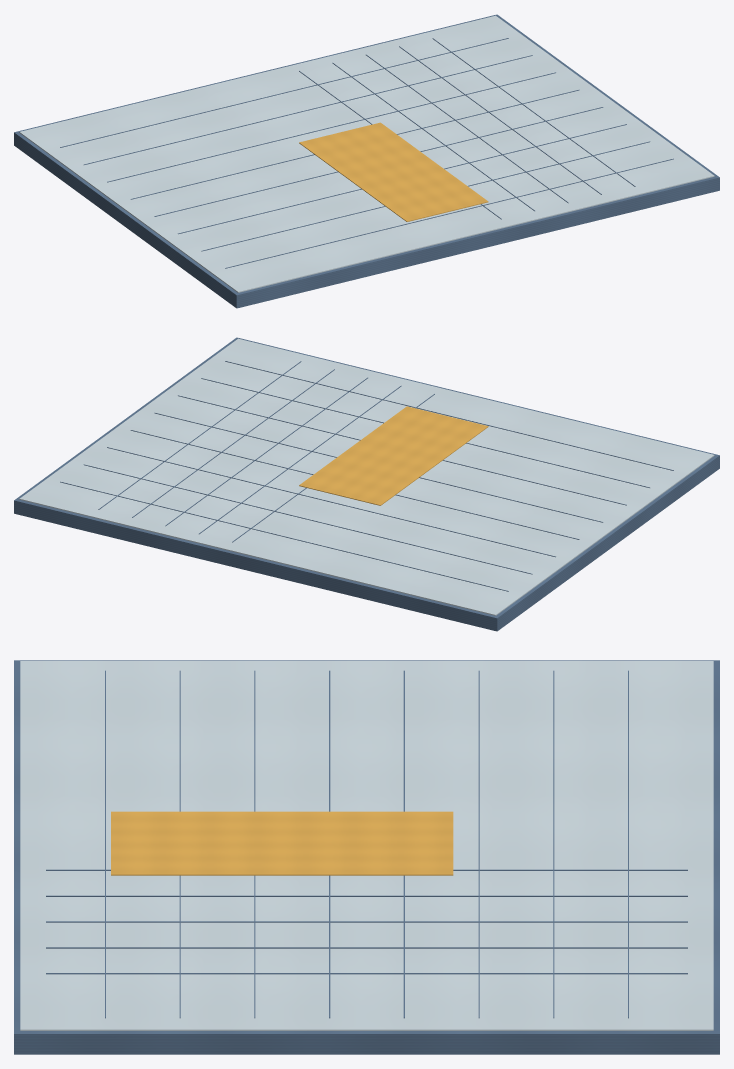
File: atlas100-s056-a07.lod2.glb
The picture shows the model from 3 angles, top to bottom: view 1: azimuth 30°, elevation 25°; view 2: azimuth 150°, elevation 25°; view 3: azimuth 270°, elevation 25°; orthographic projection. The views are drawn at different scales.
Visible parts, largest first — view 1: atlas100-s056-a07:part-001, atlas100-s056-a07:part-000, atlas100-s056-a07:part-021, atlas100-s056-a07:part-014, atlas100-s056-a07:part-013, atlas100-s056-a07:part-015, atlas100-s056-a07:part-020, atlas100-s056-a07:part-017, atlas100-s056-a07:part-019, atlas100-s056-a07:part-016, atlas100-s056-a07:part-018; view 2: atlas100-s056-a07:part-001, atlas100-s056-a07:part-000, atlas100-s056-a07:part-021, atlas100-s056-a07:part-014, atlas100-s056-a07:part-013, atlas100-s056-a07:part-020, atlas100-s056-a07:part-015, atlas100-s056-a07:part-016, atlas100-s056-a07:part-019, atlas100-s056-a07:part-017, atlas100-s056-a07:part-018; view 3: atlas100-s056-a07:part-001, atlas100-s056-a07:part-000, atlas100-s056-a07:part-021, atlas100-s056-a07:part-009, atlas100-s056-a07:part-010, atlas100-s056-a07:part-011, atlas100-s056-a07:part-012, atlas100-s056-a07:part-014, atlas100-s056-a07:part-015.
Part boxes in pixels (x1=…): atlas100-s056-a07:part-001: x1=19, y1=15, x2=714, y2=292; atlas100-s056-a07:part-000: x1=14, y1=14, x2=719, y2=308; atlas100-s056-a07:part-021: x1=299, y1=122, x2=488, y2=221; atlas100-s056-a07:part-014: x1=84, y1=55, x2=532, y2=164; atlas100-s056-a07:part-013: x1=60, y1=38, x2=508, y2=147; atlas100-s056-a07:part-015: x1=107, y1=72, x2=555, y2=182; atlas100-s056-a07:part-020: x1=225, y1=158, x2=673, y2=268; atlas100-s056-a07:part-017: x1=154, y1=107, x2=603, y2=216; atlas100-s056-a07:part-019: x1=201, y1=141, x2=650, y2=251; atlas100-s056-a07:part-016: x1=130, y1=89, x2=579, y2=199; atlas100-s056-a07:part-018: x1=178, y1=124, x2=626, y2=234; atlas100-s056-a07:part-001: x1=19, y1=338, x2=714, y2=615; atlas100-s056-a07:part-000: x1=14, y1=337, x2=719, y2=631; atlas100-s056-a07:part-021: x1=299, y1=406, x2=488, y2=505; atlas100-s056-a07:part-014: x1=83, y1=464, x2=532, y2=574; atlas100-s056-a07:part-013: x1=60, y1=481, x2=508, y2=591; atlas100-s056-a07:part-020: x1=225, y1=361, x2=673, y2=470; atlas100-s056-a07:part-015: x1=107, y1=447, x2=555, y2=557; atlas100-s056-a07:part-016: x1=130, y1=430, x2=579, y2=539; atlas100-s056-a07:part-019: x1=201, y1=378, x2=649, y2=487; atlas100-s056-a07:part-017: x1=154, y1=412, x2=603, y2=522; atlas100-s056-a07:part-018: x1=178, y1=395, x2=626, y2=505; atlas100-s056-a07:part-001: x1=20, y1=661, x2=713, y2=1030; atlas100-s056-a07:part-000: x1=14, y1=660, x2=719, y2=1054; atlas100-s056-a07:part-021: x1=111, y1=811, x2=453, y2=875; atlas100-s056-a07:part-009: x1=46, y1=895, x2=687, y2=896; atlas100-s056-a07:part-010: x1=46, y1=921, x2=687, y2=922; atlas100-s056-a07:part-011: x1=46, y1=947, x2=687, y2=948; atlas100-s056-a07:part-012: x1=46, y1=973, x2=687, y2=974; atlas100-s056-a07:part-014: x1=553, y1=670, x2=554, y2=1018; atlas100-s056-a07:part-015: x1=478, y1=670, x2=479, y2=1018.
Size of the model in its own units: 13.02 by 0.404 by 10.4.
Materials: 3 (3 with a texture image).
